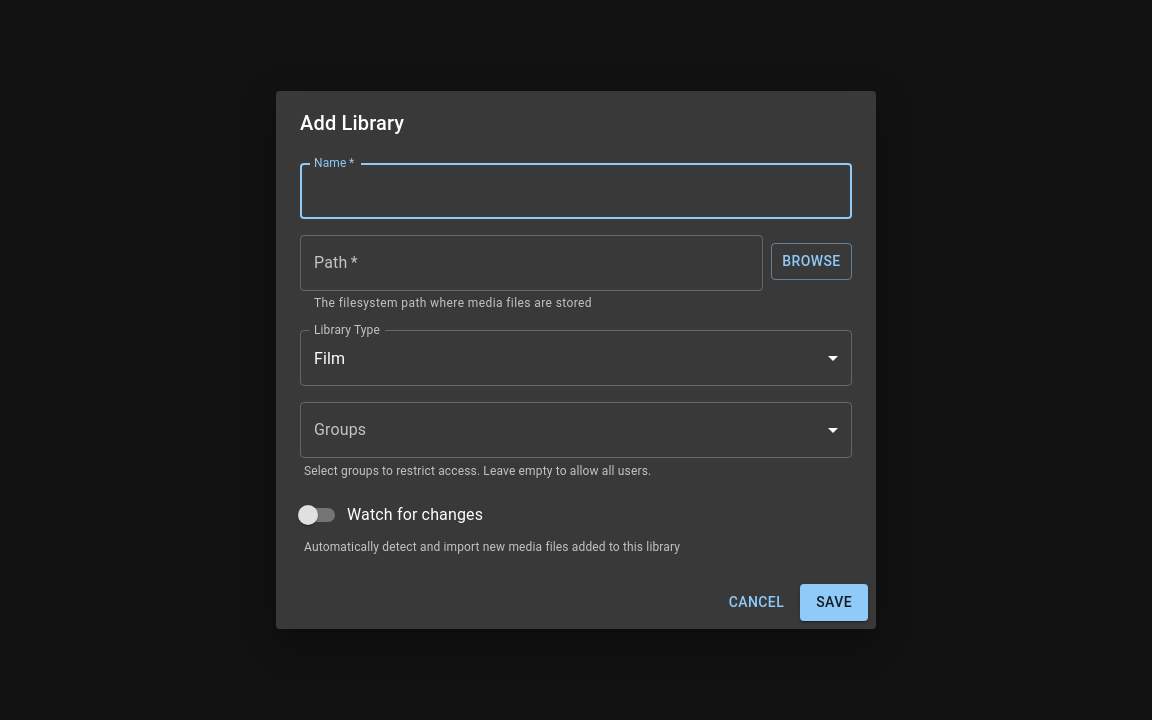
Test: LibraryDialog › Create mode › shows validation error when name is empty
In the field labelled "Path *": (532, 263) [300,235,763,291], type "/media/movies"
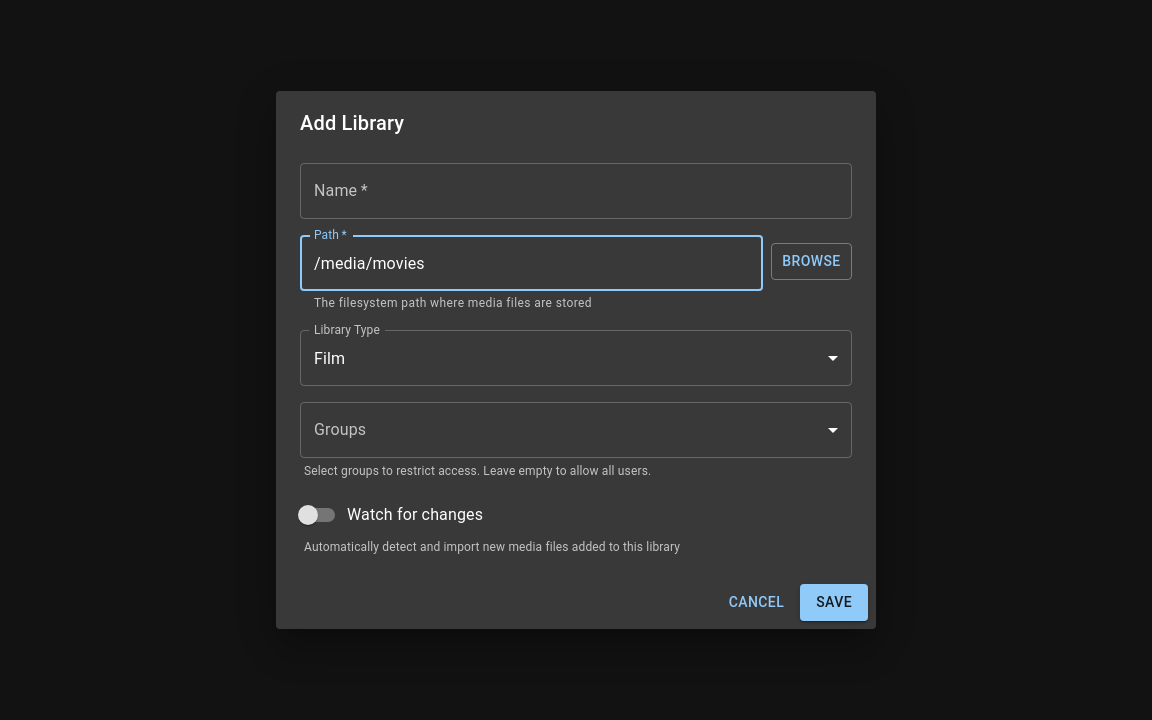
Click the button "Save": (834, 602) [800,584,868,621]
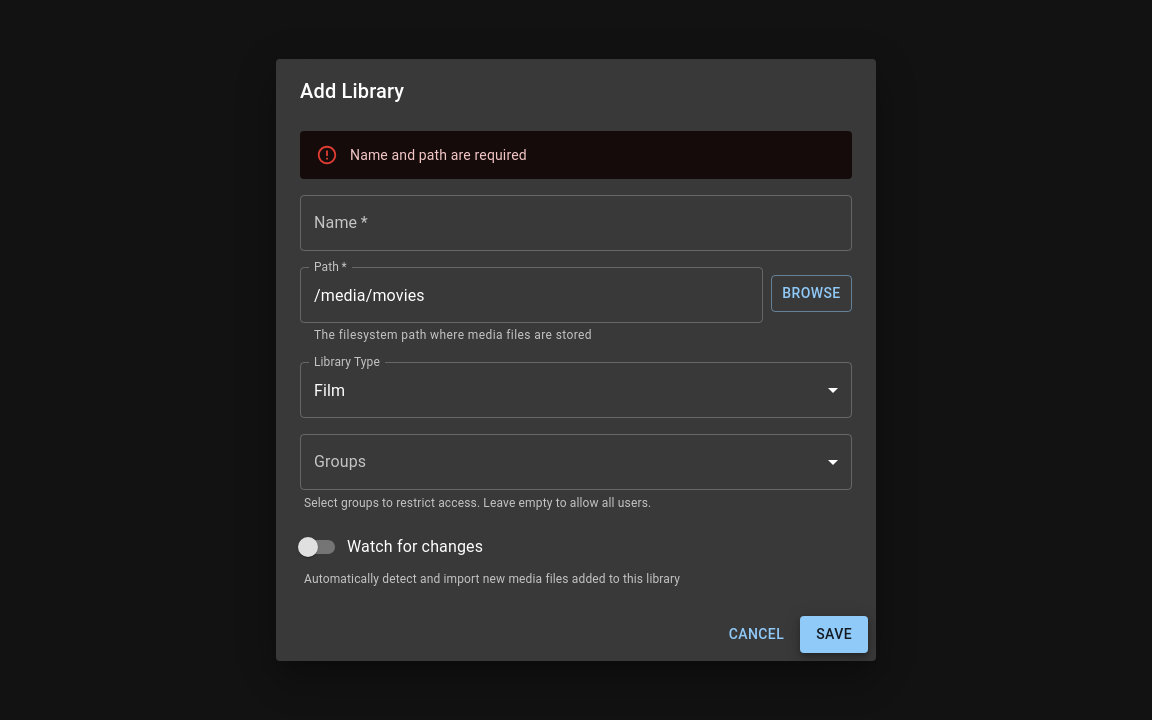
Now the message "Name and path are required" is shown, box [300,131,852,179]
